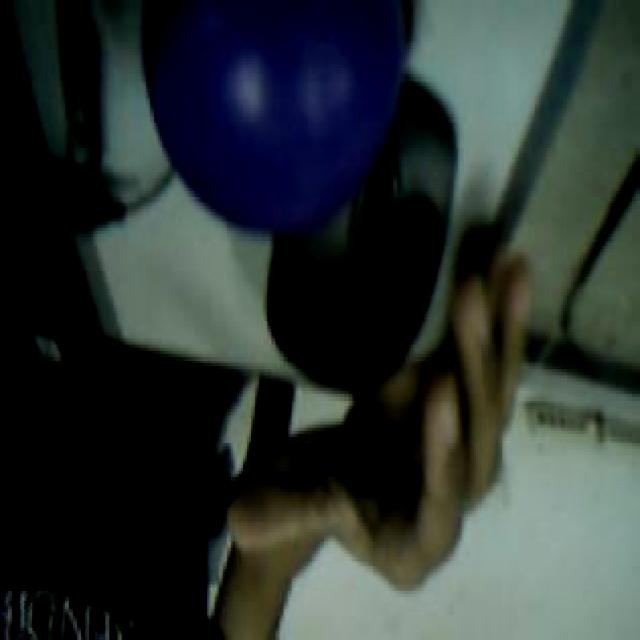BallPurple: (143, 0, 407, 237)
